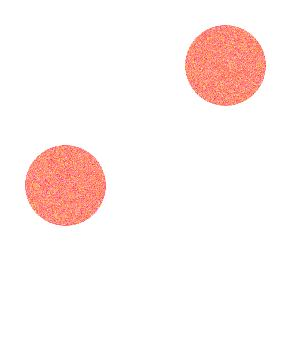I: (19, 18, 273, 337)
